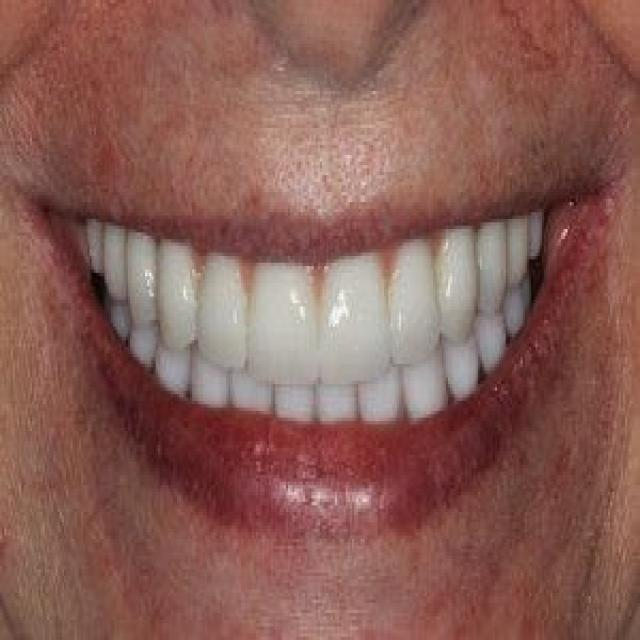tooth: (245, 256, 318, 381), (318, 256, 384, 377), (388, 246, 435, 354), (439, 239, 472, 337), (198, 263, 239, 340), (442, 334, 486, 404), (158, 250, 194, 334), (401, 357, 450, 418), (474, 233, 504, 303), (269, 384, 318, 421), (476, 306, 508, 361), (198, 367, 235, 404), (506, 219, 527, 283), (362, 381, 394, 421), (328, 384, 361, 421), (502, 297, 534, 330), (102, 226, 121, 280), (122, 232, 143, 280), (525, 216, 544, 260), (111, 300, 126, 347), (235, 377, 260, 404), (156, 357, 188, 377), (85, 222, 98, 270), (516, 276, 536, 307), (141, 330, 156, 367)
